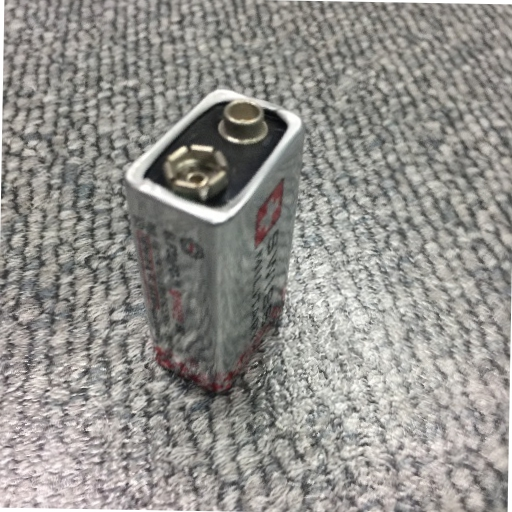Battery_3: (109, 76, 318, 407)
